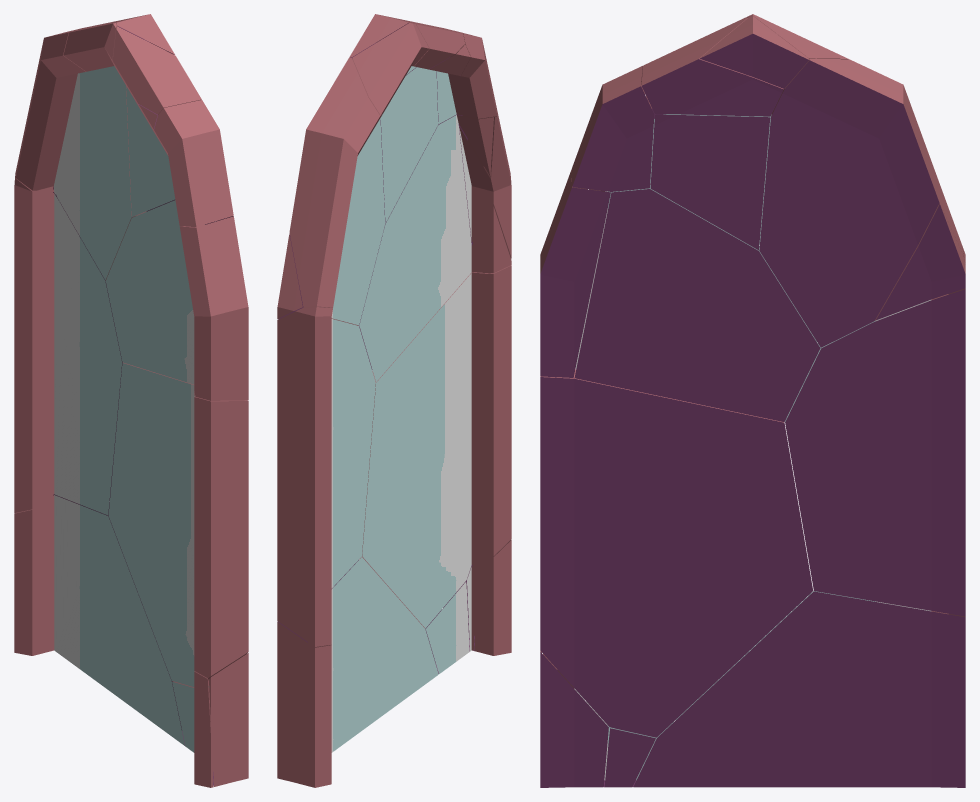
File: mirror_shattered.glb
The picture shows the model from 3 angles, left to right: view 1: azimuth 30°, elevation 25°; view 2: azimuth 150°, elevation 25°; view 3: azimuth 270°, elevation 25°; orthographic projection. The views are drawn at different scales.
Visible parts, largest first — view 1: mirror_cell.015, mirror_cell.004, mirror_cell.002, mirror_cell.012, mirror_cell.005, mirror_cell.006, mirror_cell.009, mirror_cell.007, mirror_cell.010, mirror_cell.013, mirror_cell.011, mirror_cell.008 (+2 smaller); view 2: mirror_cell.015, mirror_cell.004, mirror_cell.002, mirror_cell.005, mirror_cell.012, mirror_cell.013, mirror_cell.006, mirror_cell.008, mirror_cell.011, mirror_cell.009, mirror_cell.017, mirror_cell.010 (+3 smaller); view 3: mirror_cell.015, mirror_cell.002, mirror_cell.004, mirror_cell.016, mirror_cell.012, mirror_cell.001, mirror_cell.006, mirror_cell.009, mirror_cell.010, mirror_cell.007, mirror_cell.014, mirror_cell.003 (+2 smaller).
Part boxes in pixels (x1,y1,x2,y2): mirror_cell.015: (108,362,248,687); mirror_cell.004: (14,166,122,515); mirror_cell.002: (14,494,185,745); mirror_cell.012: (16,20,146,280); mirror_cell.005: (105,200,204,395); mirror_cell.006: (179,216,248,400); mirror_cell.009: (154,100,233,226); mirror_cell.007: (209,653,248,786); mirror_cell.010: (112,26,201,114); mirror_cell.013: (126,86,175,216); mirror_cell.011: (63,20,121,71); mirror_cell.008: (194,672,213,787); mirror_cell.015: (359,265,511,628); mirror_cell.004: (277,307,375,646); mirror_cell.002: (277,557,438,787); mirror_cell.005: (359,115,511,381); mirror_cell.012: (289,57,385,325); mirror_cell.013: (380,44,470,223); mirror_cell.006: (442,106,511,259); mirror_cell.008: (474,539,511,655); mirror_cell.011: (352,22,429,115); mirror_cell.009: (430,25,496,123); mirror_cell.017: (425,582,469,673); mirror_cell.010: (401,19,464,74); mirror_cell.015: (540,369,813,737); mirror_cell.002: (633,591,965,787); mirror_cell.004: (785,246,965,616); mirror_cell.016: (574,189,820,422); mirror_cell.012: (759,58,963,347); mirror_cell.001: (650,114,770,250); mirror_cell.006: (540,170,610,377); mirror_cell.009: (571,66,654,191); mirror_cell.010: (641,17,783,116); mirror_cell.007: (540,651,608,787); mirror_cell.014: (875,204,965,320); mirror_cell.003: (699,16,809,88).
Size of the model in its own units: 0.2091 by 2.99 by 1.53.
Materials: 3 (3 with a texture image).
